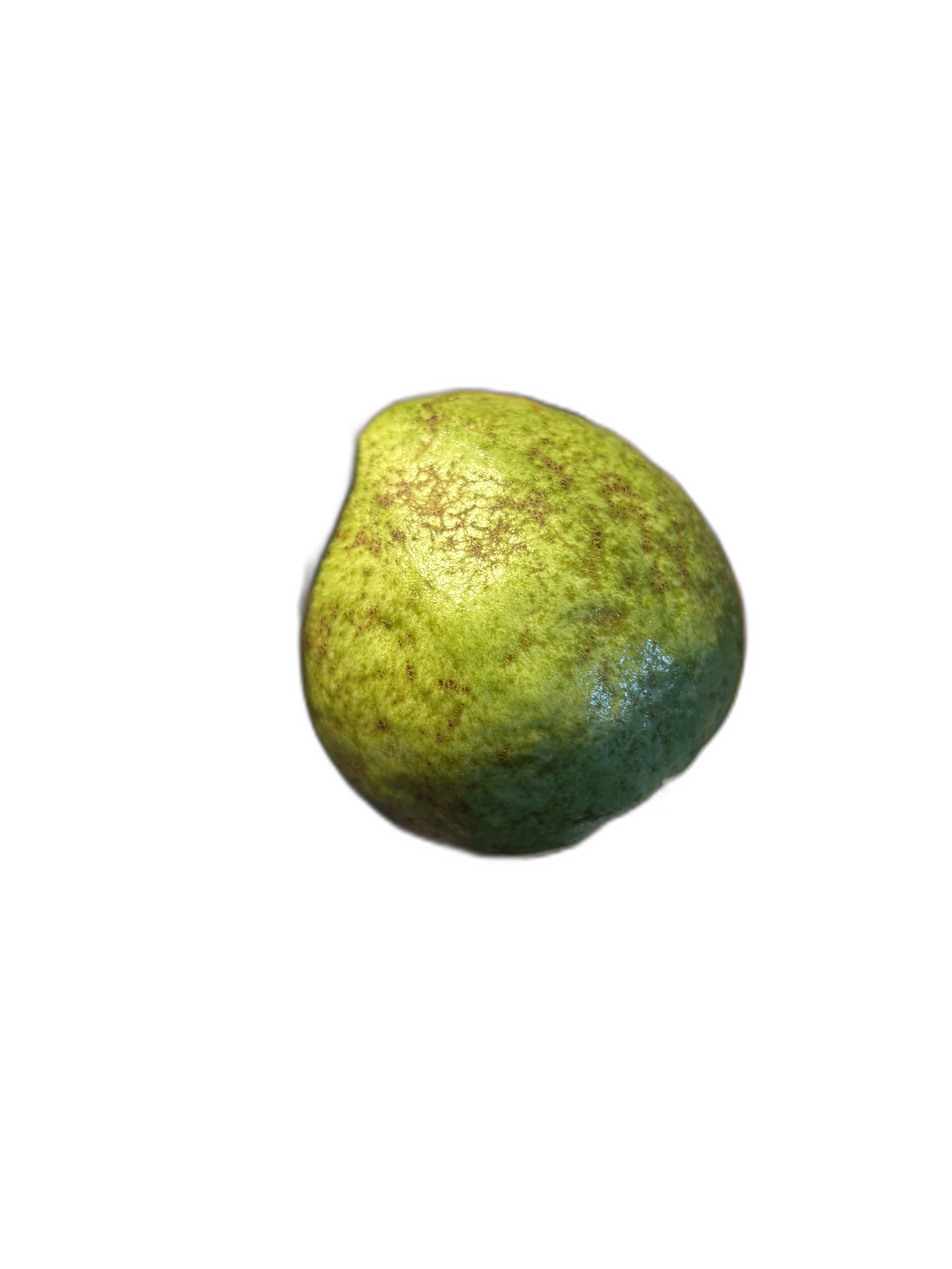guava: (202, 159, 910, 1069)
